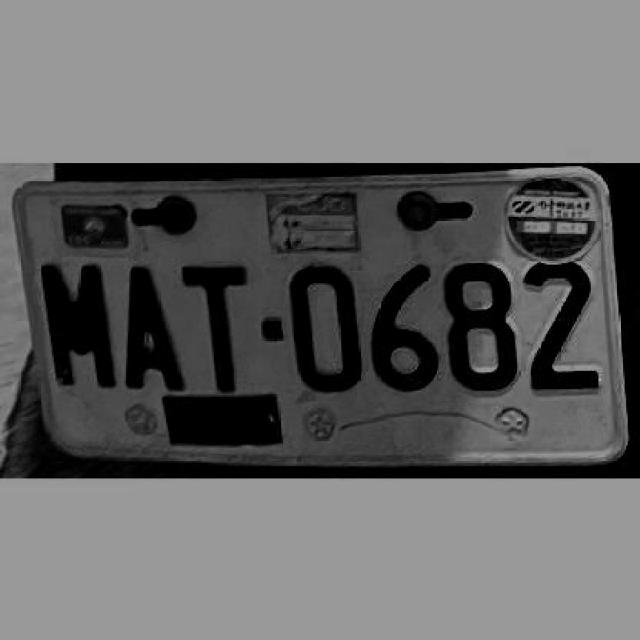-: (260, 320, 285, 340)
0: (286, 264, 360, 390)
2: (522, 258, 598, 397)
6: (368, 255, 440, 388)
8: (444, 257, 518, 395)
A: (123, 263, 185, 385)
M: (40, 262, 117, 384)
T: (181, 263, 254, 388)
